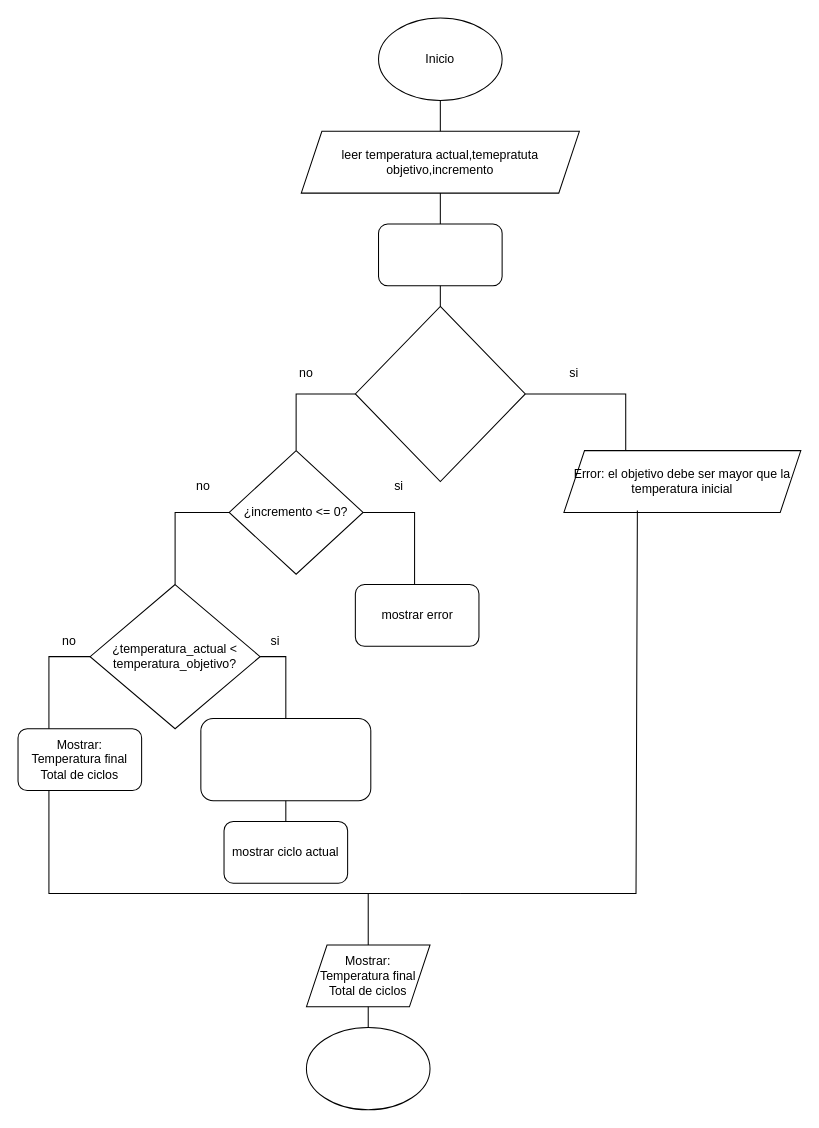
Image size: 819x1128. Some labels were removed from this diagram. The centre of each missing label's shape, as x and y in pixels:
cliclos=0: [439,254]
fin: [367,1068]
incrementar temperatura,incrementar ciclos: [285,759]
temperatura_objetivo <= temperatura_actual: [439,393]
